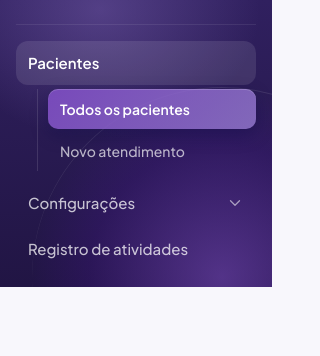
Test case: SidebarNav › Configurações continua recolhível e Registro de atividades é um item próprio
Expected: the link "Capa dos relatórios" is not shown
Click the button "Configurações": (136, 203) x1=16 y1=181 x2=256 y2=225
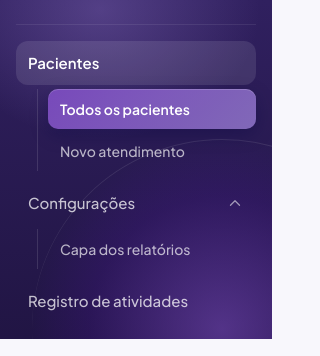
Expected: the link "Capa dos relatórios" is shown, x1=60 y1=240 x2=190 y2=258
